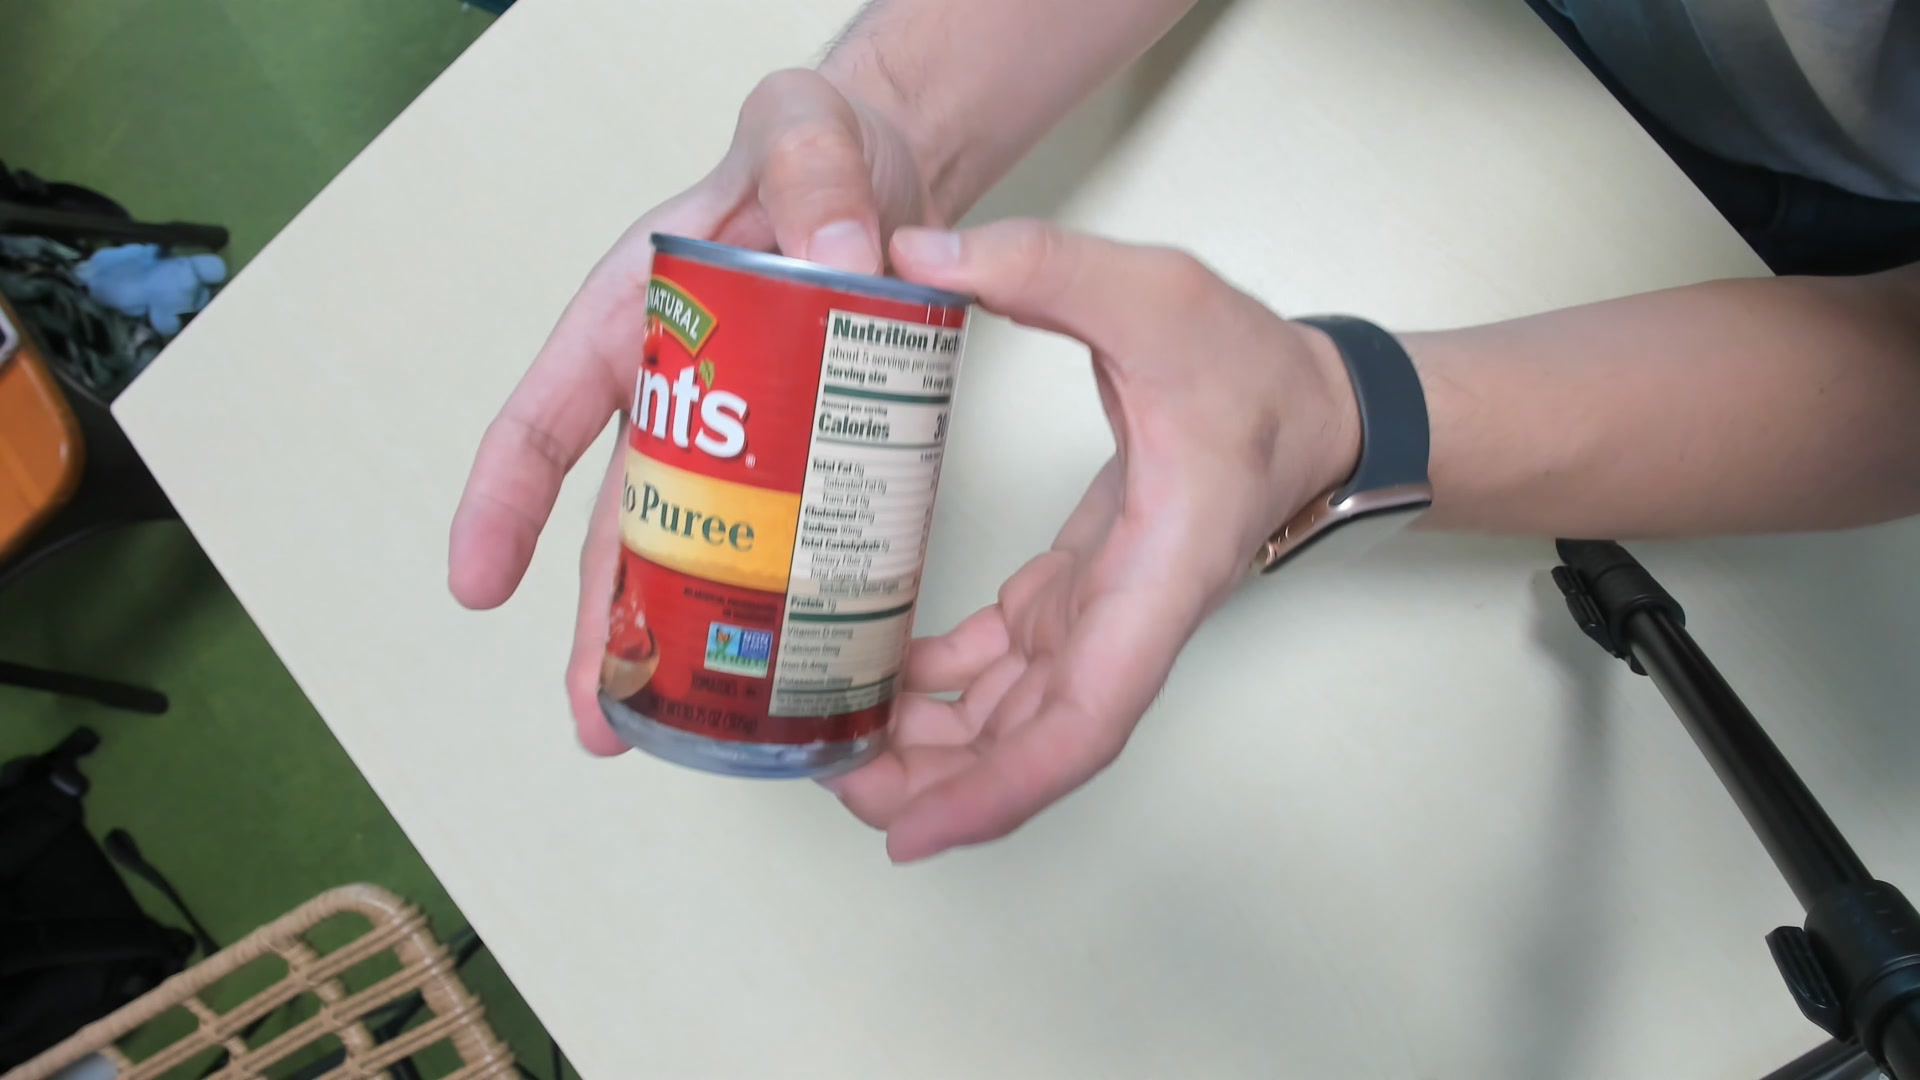OtherSauceDressing_300-399g_NonHalal_NonHealthy: (603, 227, 971, 783)
